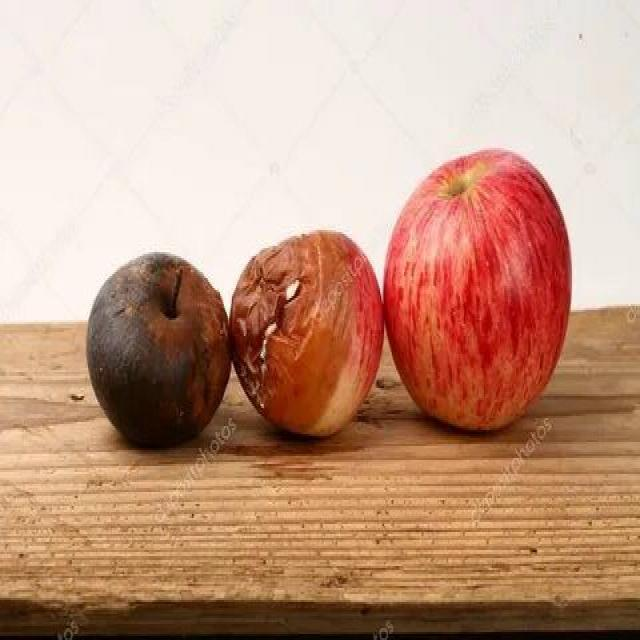Fresh Apple: (397, 160, 588, 447)
Rotten: (78, 258, 227, 470), (232, 232, 383, 435)
